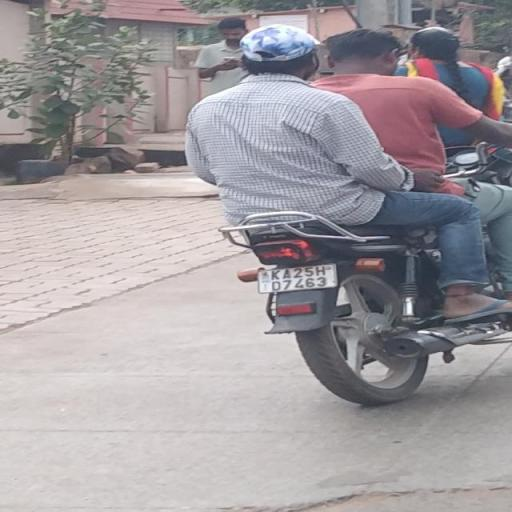bike: (176, 22, 512, 404)
numberplate: (252, 264, 338, 292)
withouthelmet: (246, 26, 313, 76), (330, 30, 400, 72)
